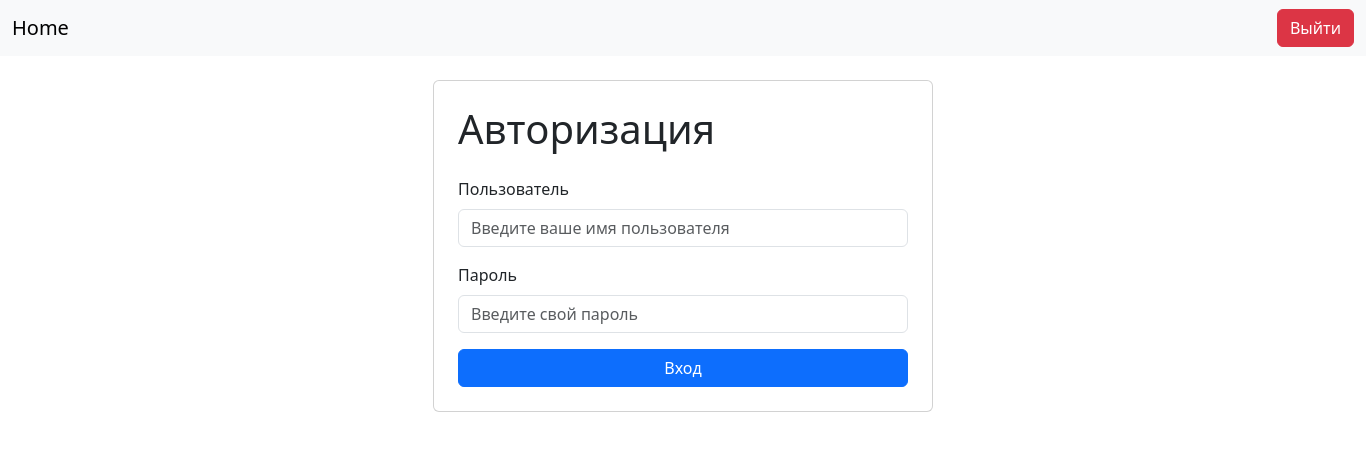
Test: LoginView › должен отображать сообщение об ошибке при пустом имени пользователя
The width and height of the screenshot is (1366, 475).
Type "a" into the field with id "username" at (683, 228), box top-left (458, 209), bottom-right (908, 247)
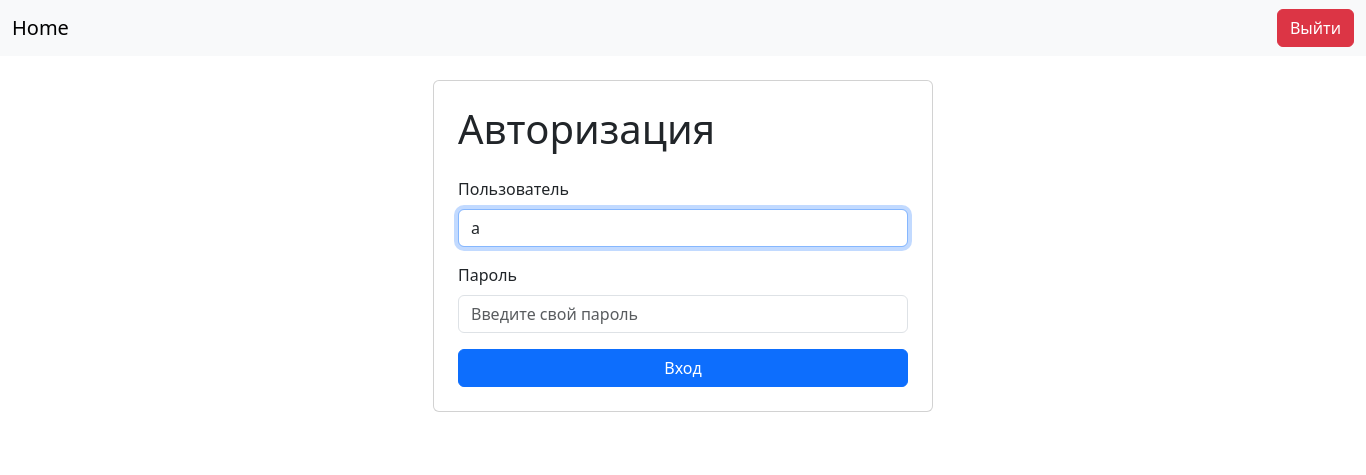
Clear the field with id "username" at (683, 228), box top-left (458, 209), bottom-right (908, 247)
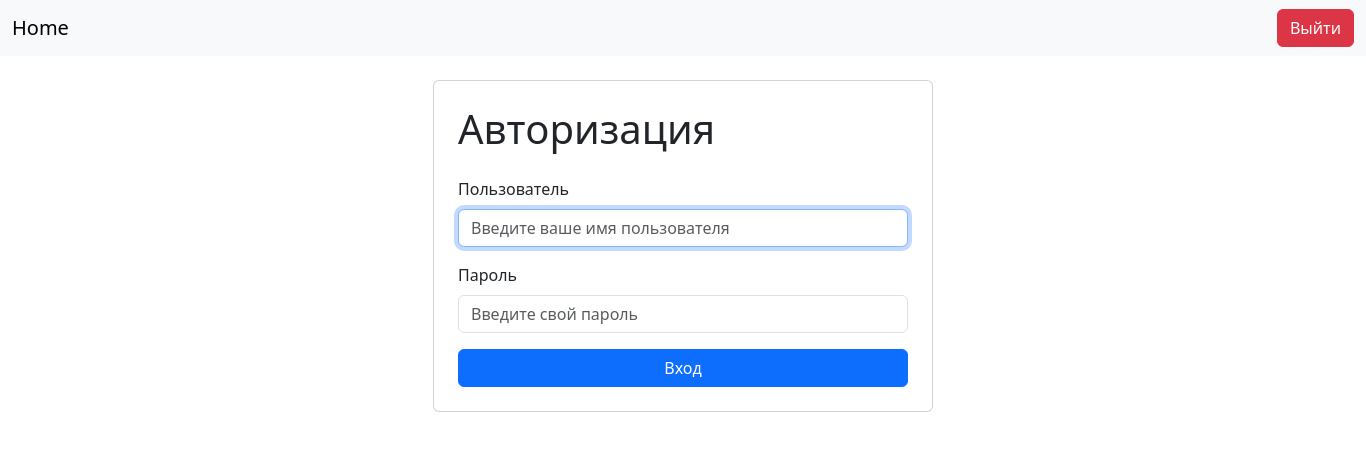
Type "validpassword" into the password field labelled "Пароль" at (683, 314), box top-left (458, 295), bottom-right (908, 333)
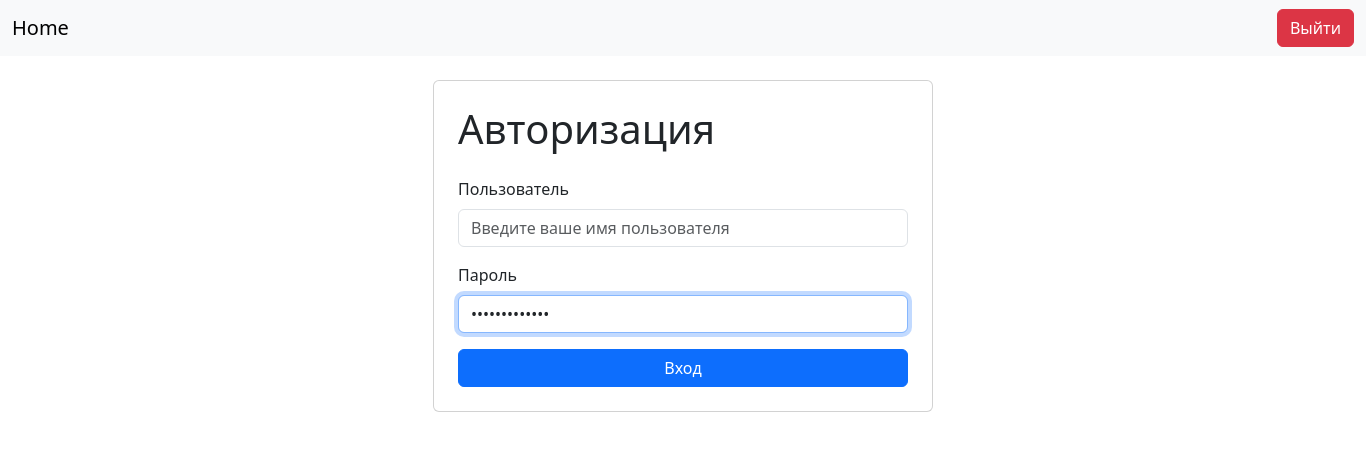
Click the button "Вход" at (683, 368), box top-left (458, 349), bottom-right (908, 387)
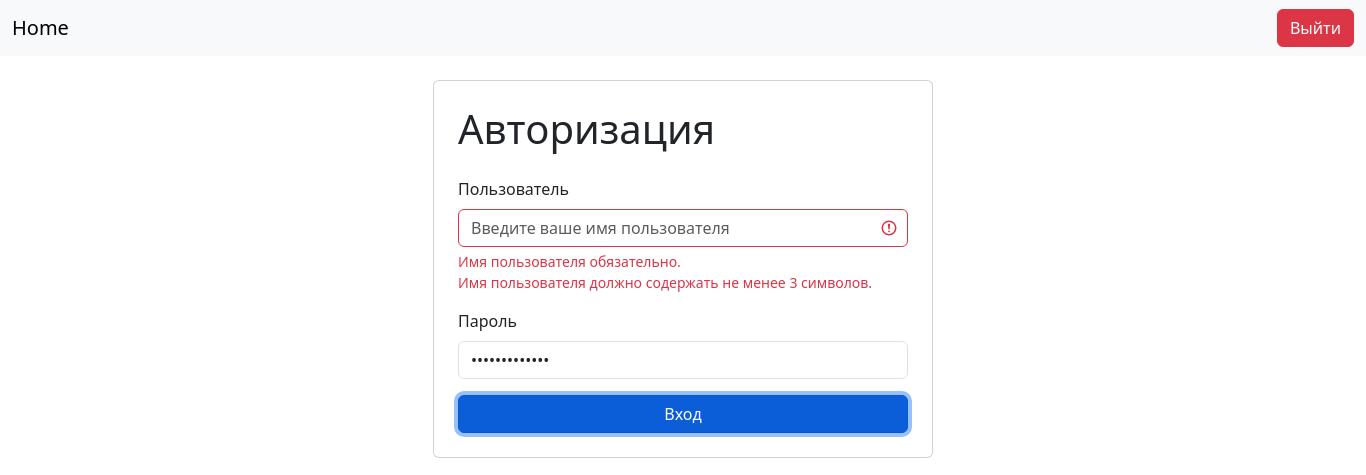
expect the element with class "invalid-feedback" shows "Имя пользователя обязательно.": met, box top-left (458, 251), bottom-right (908, 293)
